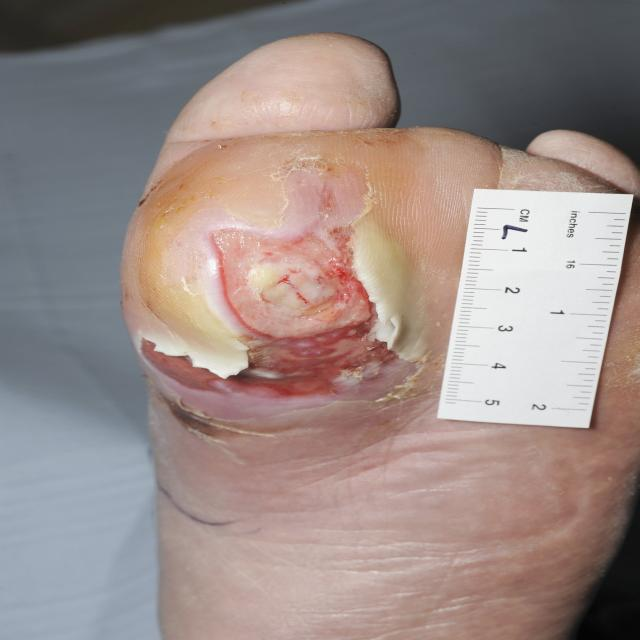wound: (120, 138, 439, 454)
